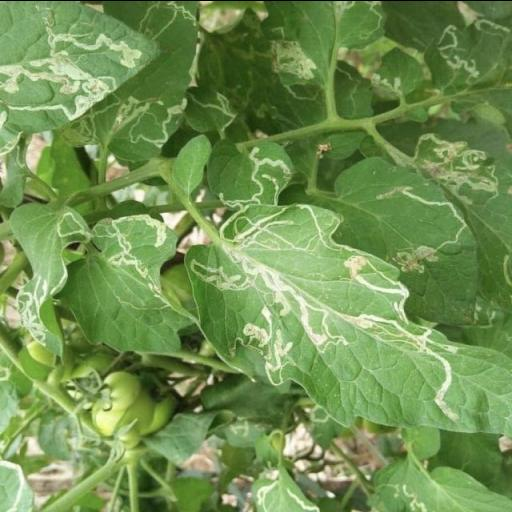Leaf Miner: (182, 200, 512, 432), (334, 154, 476, 324), (0, 0, 162, 135), (62, 212, 182, 356), (6, 202, 94, 358), (206, 135, 296, 212)
